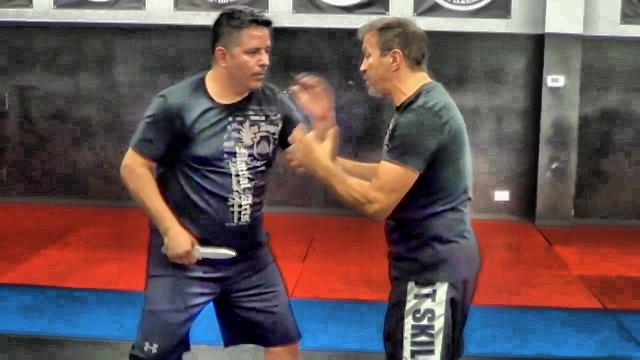knife: (160, 242, 240, 264)
